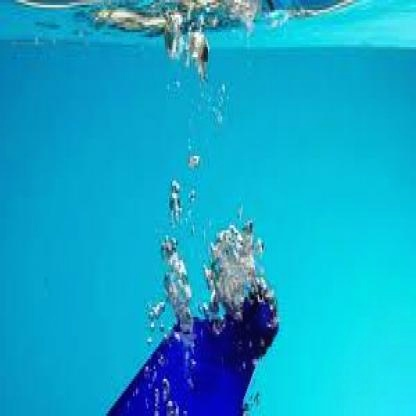pbottle: (84, 272, 282, 416)
